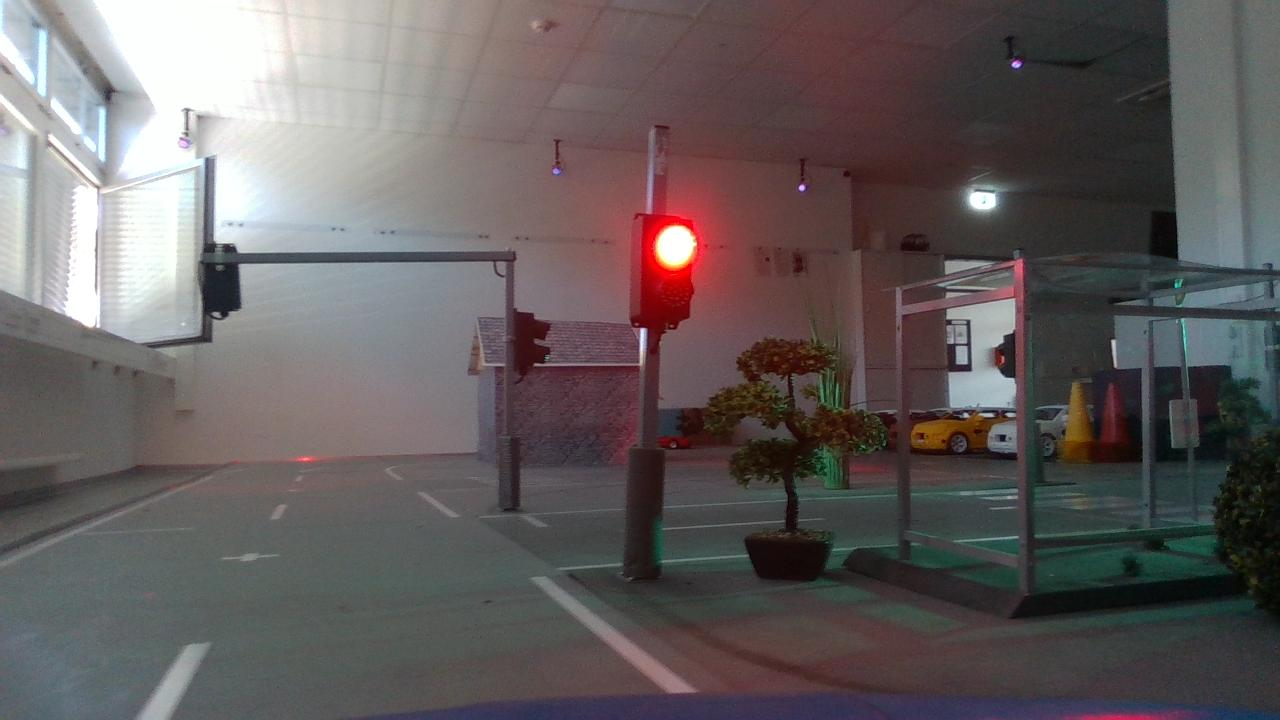traffic_light_red: (622, 204, 710, 344)
